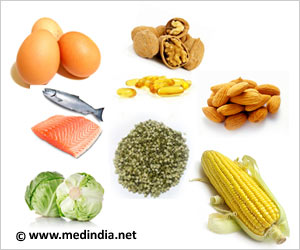boiled peas: (130, 129, 171, 186)
chopped lettuce: (33, 180, 99, 213)
